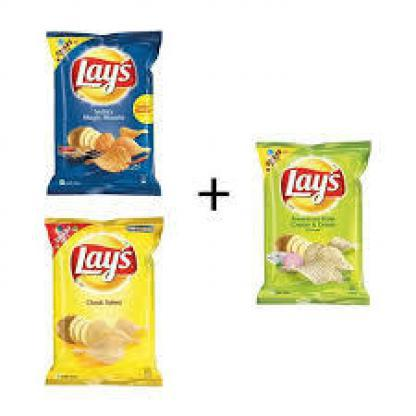classicsalted: (43, 216, 163, 383)
cream_and_onion: (253, 141, 368, 305)
indian_magic_masala: (42, 31, 161, 196)
